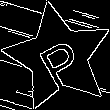P_NW: (30, 26, 87, 88)
